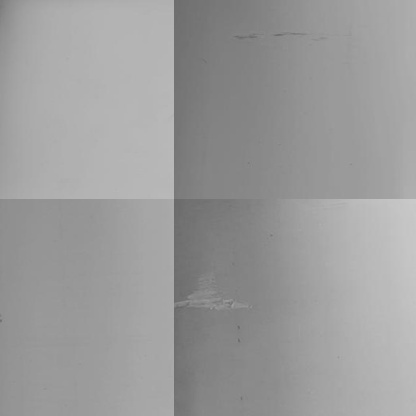sunshang: (173, 261, 258, 314)
